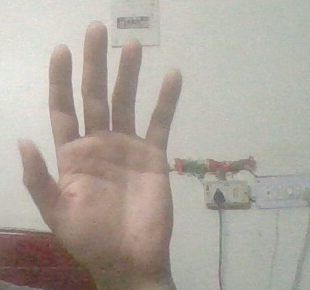move: (16, 22, 187, 290)
